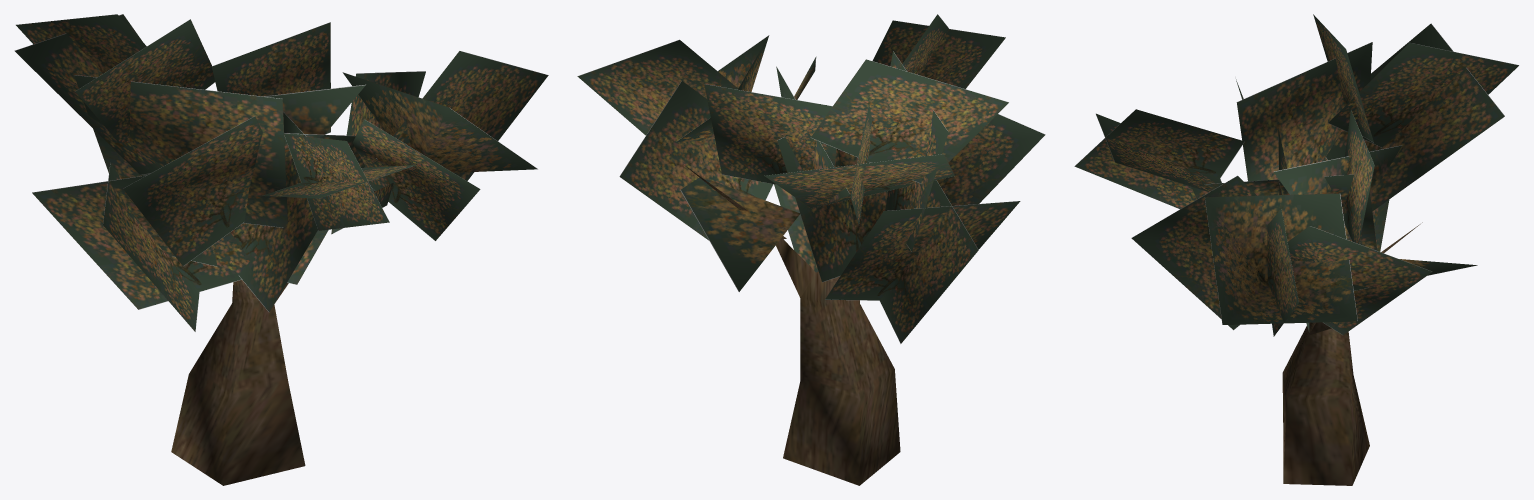
The model's file is decd_oaktreeleaves_l3.fbx.
3 views of the same model, side by side, from view 1: azimuth 30°, elevation 25°; view 2: azimuth 150°, elevation 25°; view 3: azimuth 270°, elevation 25° (orthographic). The views are drawn at different scales.
Parts seen in each view (by area): view 1: mesh_node; view 2: mesh_node; view 3: mesh_node.
Boxes of the visible parts, x1,y1,x2,y2 form: mesh_node: (14,14,548,485); mesh_node: (577,14,1045,485); mesh_node: (1074,14,1518,485).
Bounding box in the file's own units: 22.23 × 19.88 × 20.09.
2 materials, 2 textured.
